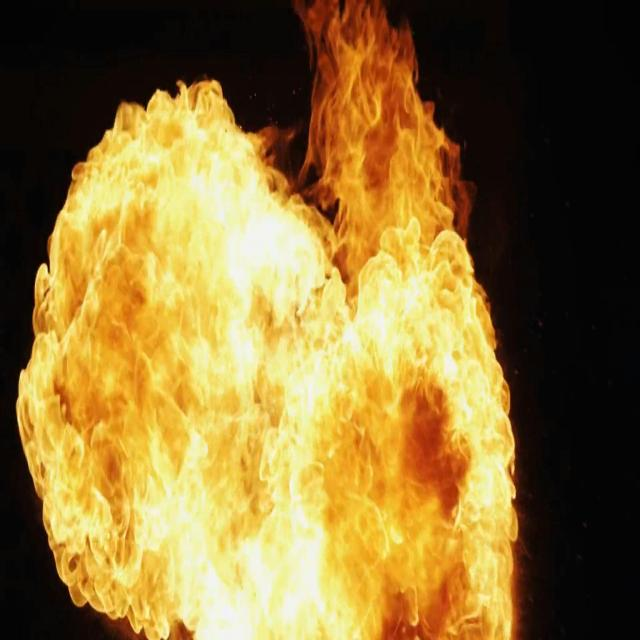fire: (33, 70, 515, 640)
